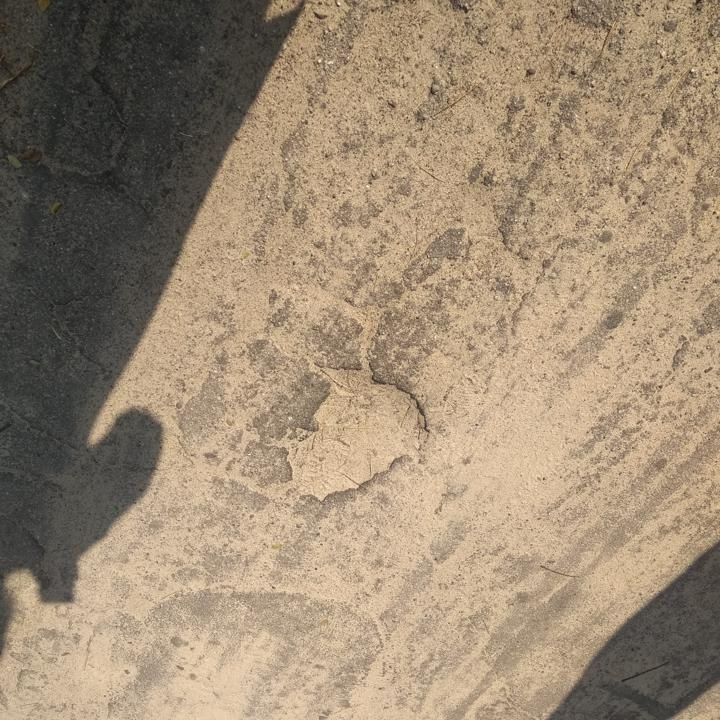pothole: (276, 364, 436, 506)
